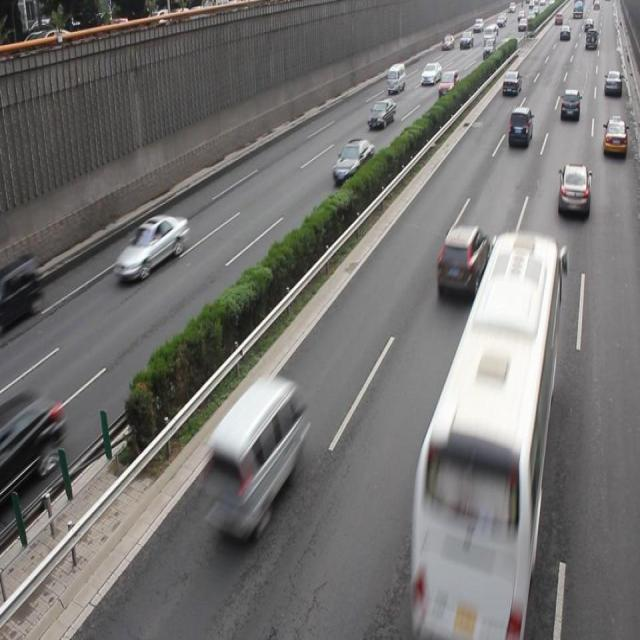car: (1, 397, 62, 503), (112, 212, 188, 282), (434, 222, 487, 301), (332, 136, 374, 186), (556, 162, 588, 218), (602, 118, 626, 158), (366, 98, 396, 130), (558, 88, 579, 124)
truck: (202, 380, 302, 539), (1, 254, 43, 327), (506, 106, 532, 149)
van: (408, 232, 560, 632)
